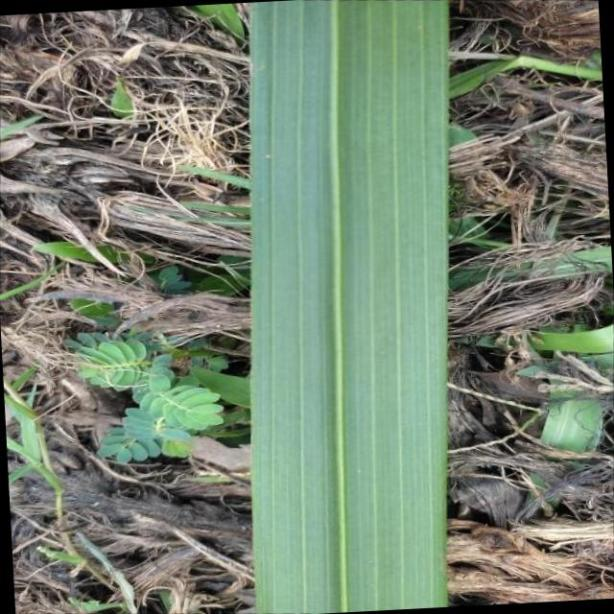Healthy: (246, 4, 448, 612)
